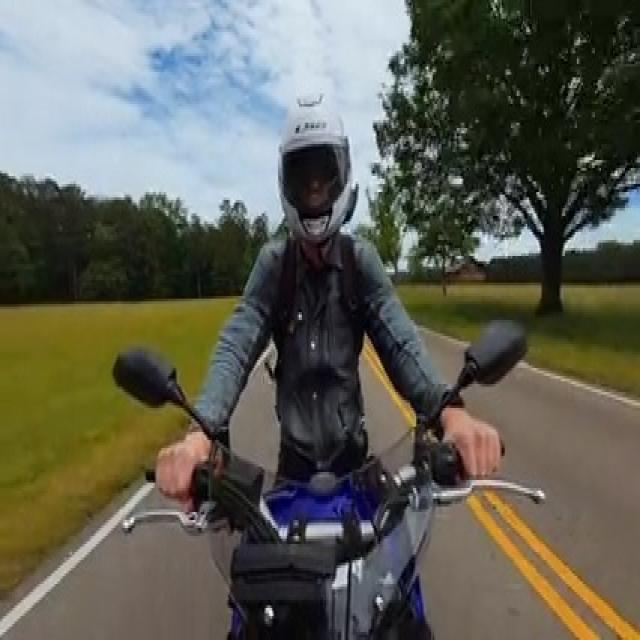Helmet_Wearer: (268, 74, 363, 259)
Person: (178, 68, 462, 479)
